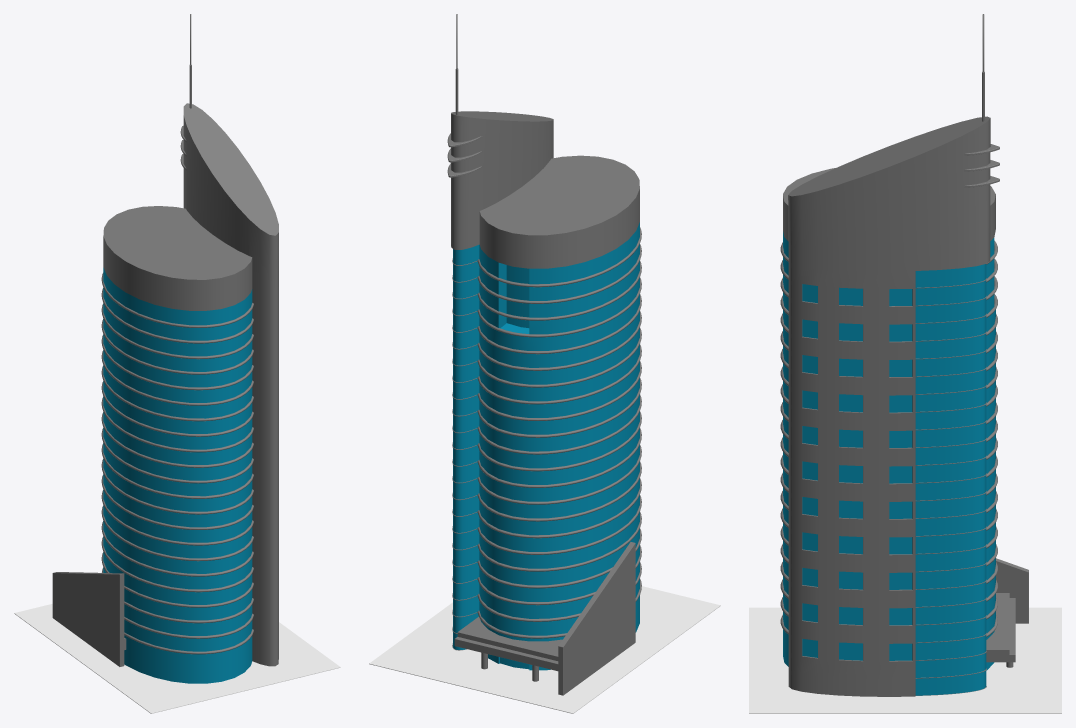
3 renders of one model, left to right at view 1: azimuth 30°, elevation 25°; view 2: azimuth 150°, elevation 25°; view 3: azimuth 270°, elevation 25°, orthographic. The views are drawn at different scales.
Parts seen in each view (by area): view 1: Object26_glass_0, Cylinder111, Shape12, Cylinder110, Box09, Box399; view 2: Object26_glass_0, Shape12, Cylinder110, Box09, Object22_glass_0, Cylinder111, Box399, Shape13; view 3: Cylinder111, Object22_glass_0, Box09, Object26_glass_0, Object24_glass_0, Object23_glass_0, Shape12, Object25_glass_0, Box399, Shape13, Cylinder110.
Boxes of the visible parts, x1=… form: Object26_glass_0: x1=103, y1=267, x2=252, y2=683; Cylinder111: x1=183, y1=103, x2=278, y2=666; Shape12: x1=101, y1=273, x2=253, y2=654; Cylinder110: x1=103, y1=206, x2=252, y2=310; Box09: x1=14, y1=604, x2=340, y2=713; Box399: x1=52, y1=572, x2=126, y2=666; Object26_glass_0: x1=479, y1=222, x2=639, y2=670; Shape12: x1=477, y1=227, x2=641, y2=638; Cylinder110: x1=479, y1=155, x2=639, y2=268; Box09: x1=369, y1=586, x2=720, y2=713; Object22_glass_0: x1=453, y1=245, x2=479, y2=649; Cylinder111: x1=451, y1=111, x2=553, y2=249; Box399: x1=454, y1=542, x2=635, y2=695; Shape13: x1=452, y1=258, x2=477, y2=650; Cylinder111: x1=788, y1=116, x2=990, y2=696; Object22_glass_0: x1=915, y1=264, x2=986, y2=695; Box09: x1=749, y1=607, x2=1061, y2=713; Object26_glass_0: x1=783, y1=231, x2=995, y2=670; Object24_glass_0: x1=839, y1=287, x2=862, y2=660; Object23_glass_0: x1=889, y1=289, x2=912, y2=660; Shape12: x1=780, y1=240, x2=997, y2=636; Object25_glass_0: x1=802, y1=284, x2=817, y2=657; Box399: x1=986, y1=558, x2=1028, y2=662; Shape13: x1=915, y1=278, x2=986, y2=695; Cylinder110: x1=783, y1=168, x2=995, y2=241.
Bounding box in the file's own units: 370 × 1100 × 464.
